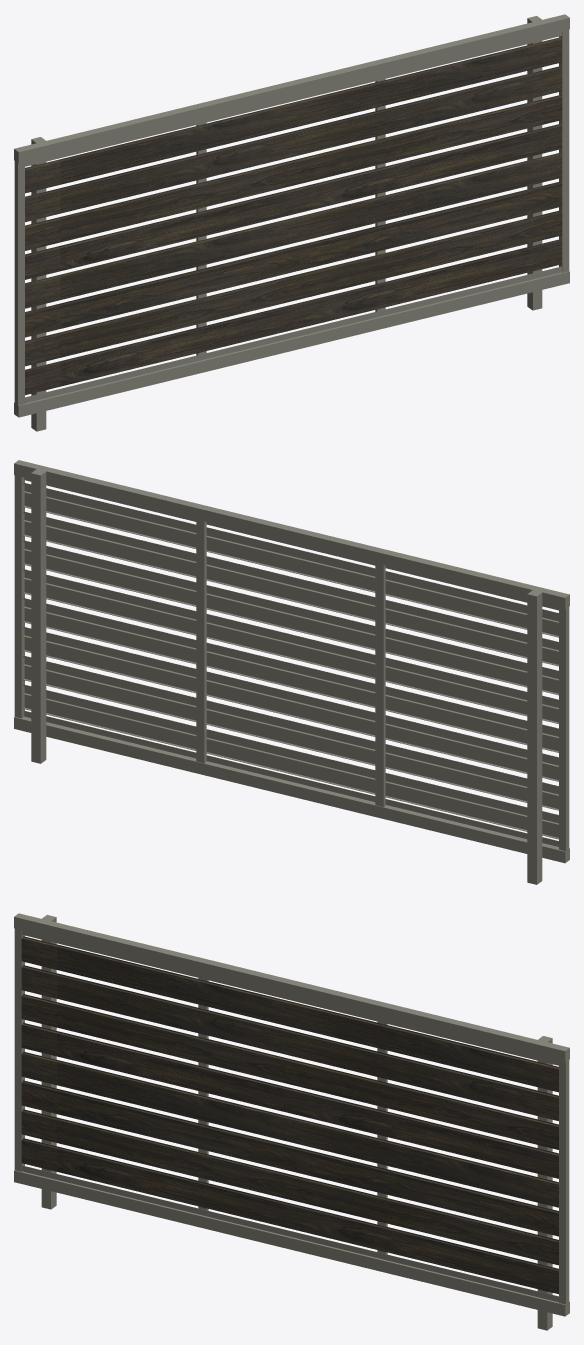
File: EAF-sensia-r-yoko_w1998_h1000_S_blackebony.fbx
The picture shows the model from 3 angles, top to bottom: view 1: azimuth 30°, elevation 25°; view 2: azimuth 150°, elevation 25°; view 3: azimuth 330°, elevation 25°; orthographic projection.
Visible parts, largest first — view 1: EAF-sensia-r-yoko_w1998_h1000_S-darkpine; view 2: EAF-sensia-r-yoko_w1998_h1000_S-darkpine; view 3: EAF-sensia-r-yoko_w1998_h1000_S-darkpine.
Boxes of the visible parts, x1,y1,x2,y2 form: EAF-sensia-r-yoko_w1998_h1000_S-darkpine: [14, 14, 569, 431]; EAF-sensia-r-yoko_w1998_h1000_S-darkpine: [14, 460, 569, 884]; EAF-sensia-r-yoko_w1998_h1000_S-darkpine: [14, 913, 569, 1330].
Size of the model in its own units: 200 by 100 by 6.5.
2 materials, 2 textured.
